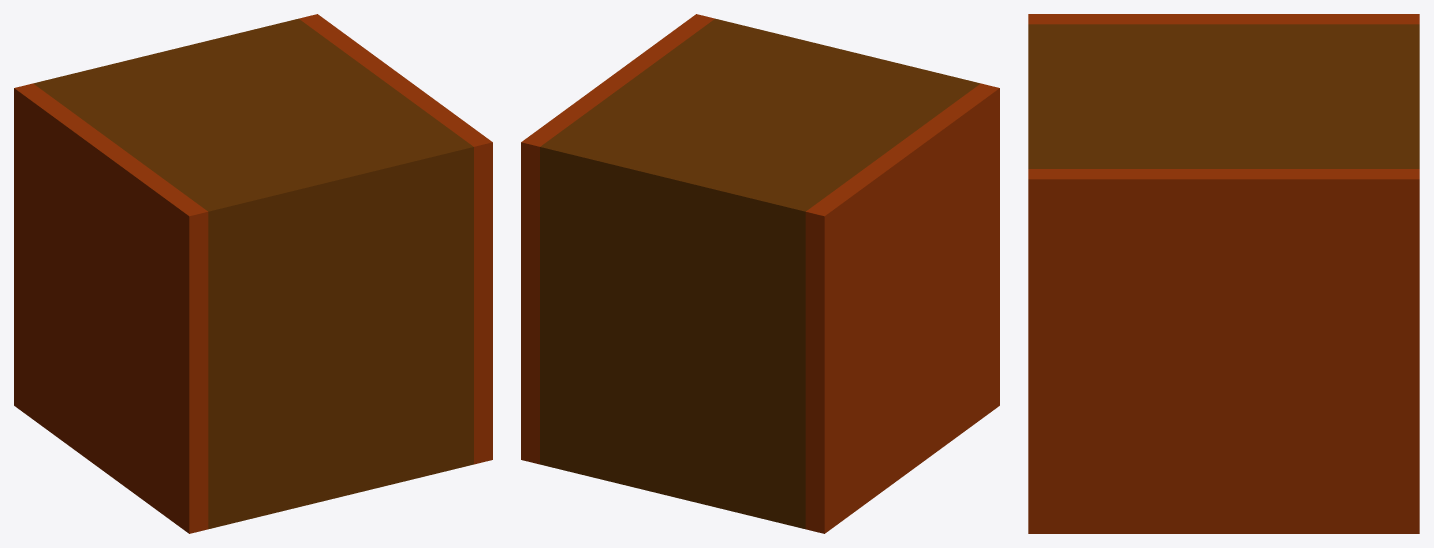
File: Path_01.obj
3 renders of one model, left to right at view 1: azimuth 30°, elevation 25°; view 2: azimuth 150°, elevation 25°; view 3: azimuth 270°, elevation 25°, orthographic. The views are drawn at different scales.
Bounding box in the file's own units: 1.6 × 1.6 × 1.6.
1 material, 1 textured.
